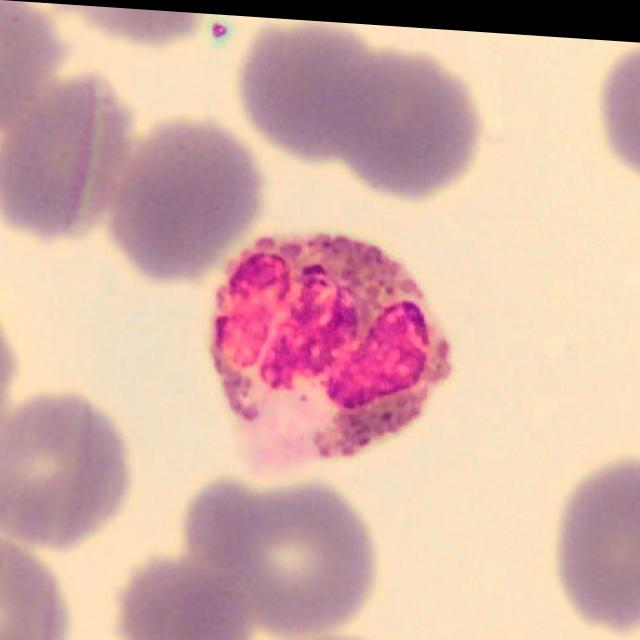Eosinofilo: (211, 227, 453, 474)
